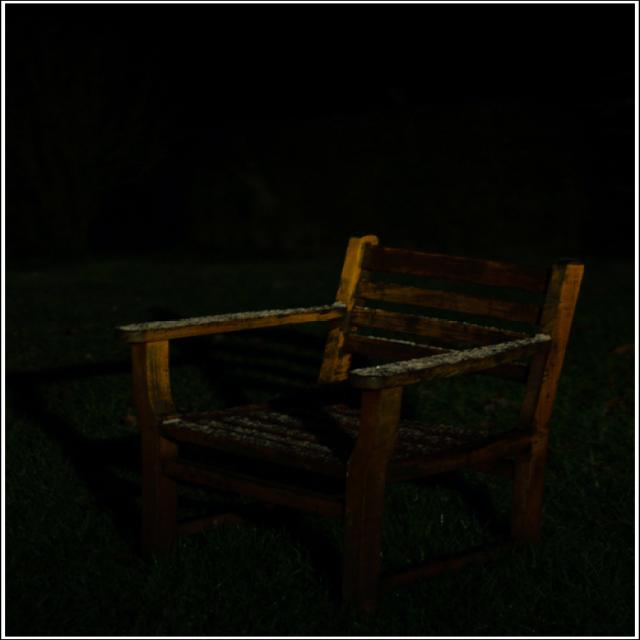chair: (115, 237, 615, 623)
